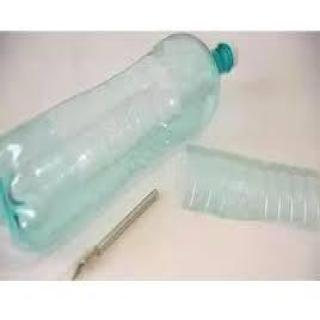Plastic-bottle: (3, 32, 238, 258), (180, 140, 320, 236)
